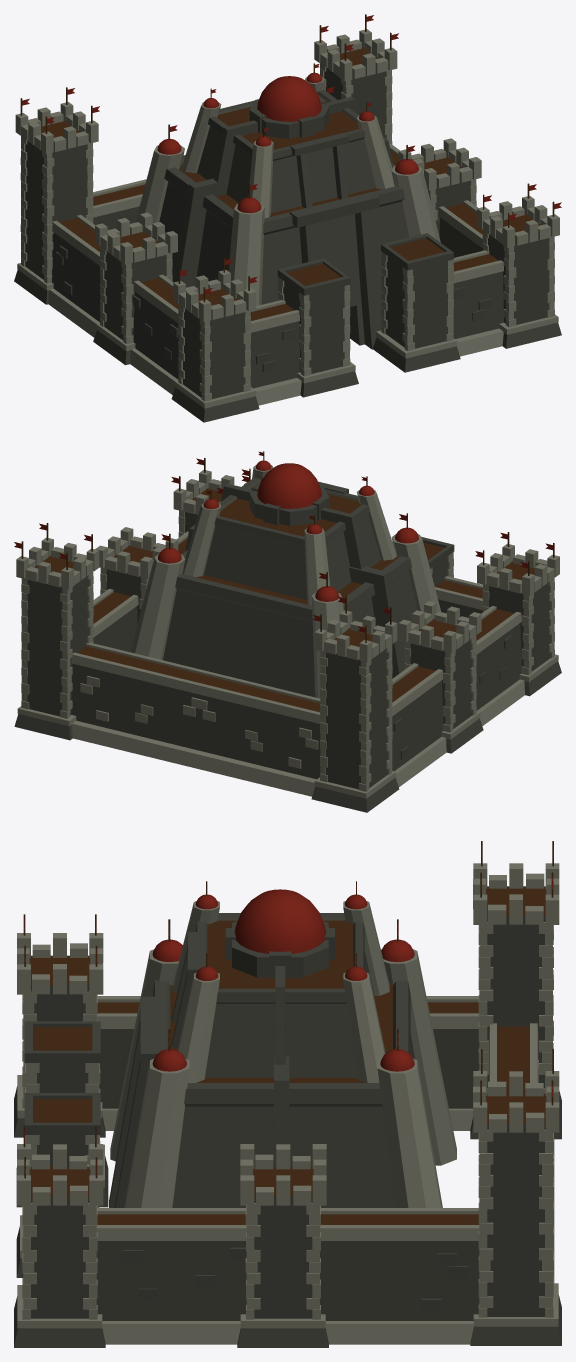
The model's file is Wonder_SecondAge_Level3.obj.
3 views of the same model, one above another, from view 1: azimuth 30°, elevation 25°; view 2: azimuth 150°, elevation 25°; view 3: azimuth 270°, elevation 25° (orthographic). The views are drawn at different scales.
Visible parts, largest first — view 1: Wonder_SecondAge_Level3_Cube.009; view 2: Wonder_SecondAge_Level3_Cube.009; view 3: Wonder_SecondAge_Level3_Cube.009.
Boxes of the visible parts, x1,y1,x2,y2 form: Wonder_SecondAge_Level3_Cube.009: (14,14,561,422); Wonder_SecondAge_Level3_Cube.009: (14,451,561,812); Wonder_SecondAge_Level3_Cube.009: (14,841,561,1347).
Size of the model in its own units: 2.13 by 1.35 by 1.96.
